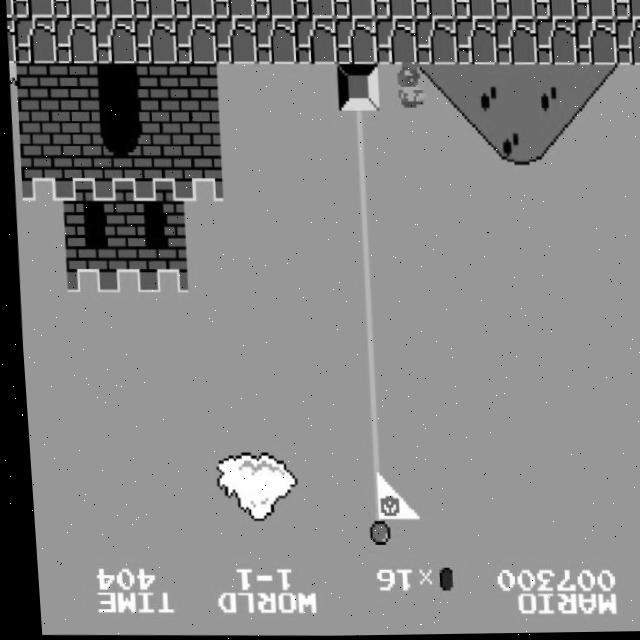1- brick_block: (54, 62, 98, 110)
11- little_mario: (386, 62, 433, 112)
17- undestructible_block: (572, 19, 617, 67), (52, 16, 97, 64), (12, 16, 57, 64), (132, 17, 177, 64), (92, 17, 137, 64), (533, 19, 577, 67), (493, 19, 537, 67), (373, 18, 417, 66), (333, 18, 377, 66), (293, 18, 337, 66), (173, 17, 217, 65), (453, 19, 497, 66), (413, 19, 457, 66), (253, 18, 297, 65), (213, 18, 257, 65), (613, 21, 640, 68), (573, 0, 615, 21), (533, 0, 575, 21), (493, 0, 535, 21), (453, 0, 495, 21), (413, 0, 455, 21), (332, 0, 375, 20), (373, 0, 415, 20), (292, 0, 334, 20), (212, 0, 254, 20), (252, 0, 294, 19), (172, 0, 214, 19), (92, 0, 134, 19), (132, 0, 174, 18), (52, 0, 94, 18), (12, 0, 54, 18), (613, 0, 640, 22), (5, 17, 16, 63), (5, 0, 13, 17)
7- goal_pole: (350, 521, 395, 569), (343, 338, 388, 386), (342, 293, 387, 340), (337, 156, 382, 203), (335, 110, 380, 157), (339, 201, 383, 249), (345, 385, 390, 431), (349, 476, 393, 523), (347, 430, 391, 477), (341, 248, 385, 294)
9- hard_block: (334, 64, 379, 112)
